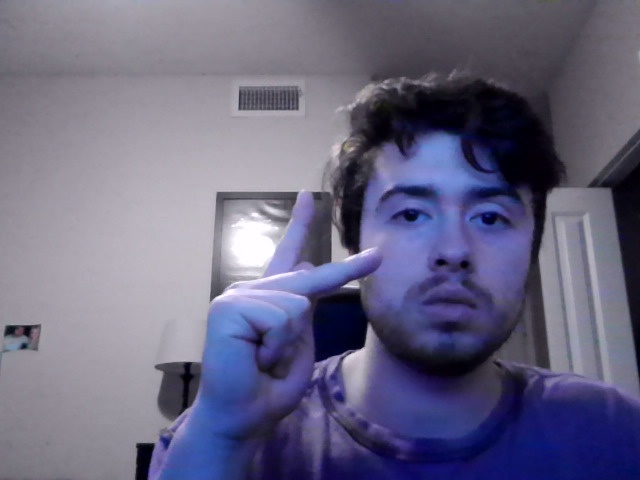k: (196, 189, 384, 447)
